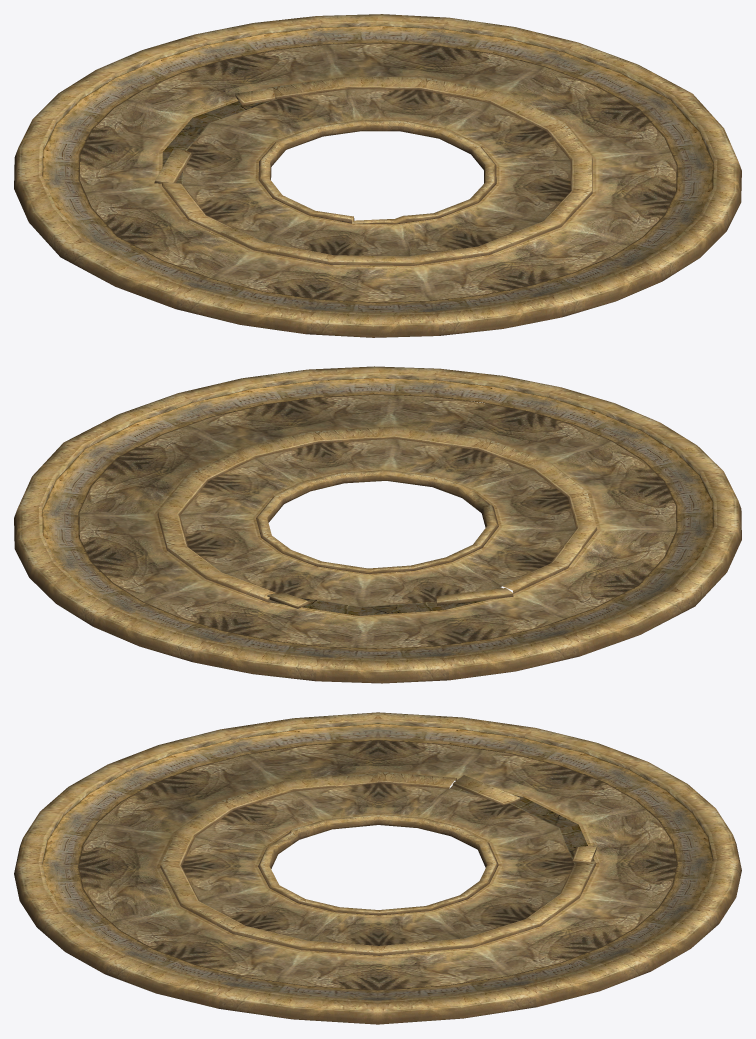
File: S_Build_Desert001.FBX
3 views of the same model, one above another, from view 1: azimuth 30°, elevation 25°; view 2: azimuth 150°, elevation 25°; view 3: azimuth 270°, elevation 25° (orthographic).
Parts seen in each view (by area): view 1: S_Build_Desert001; view 2: S_Build_Desert001; view 3: S_Build_Desert001.
Part boxes in pixels (x1=…): S_Build_Desert001: x1=14, y1=14, x2=741, y2=337; S_Build_Desert001: x1=14, y1=366, x2=741, y2=683; S_Build_Desert001: x1=14, y1=712, x2=741, y2=1024.
Size of the model in its own units: 1411 by 1424 by 33.82.
